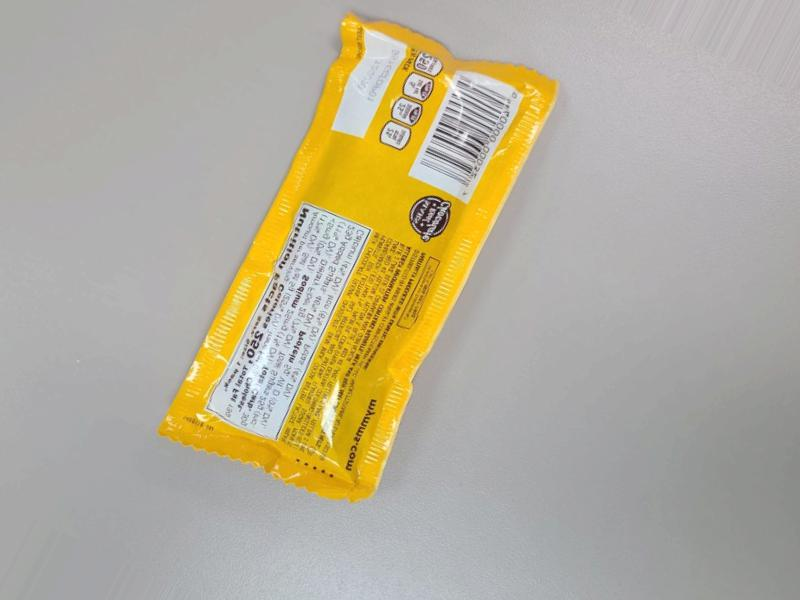m&m: (219, 0, 505, 519)
